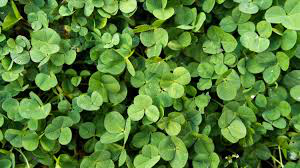clover: (4, 2, 298, 164)
